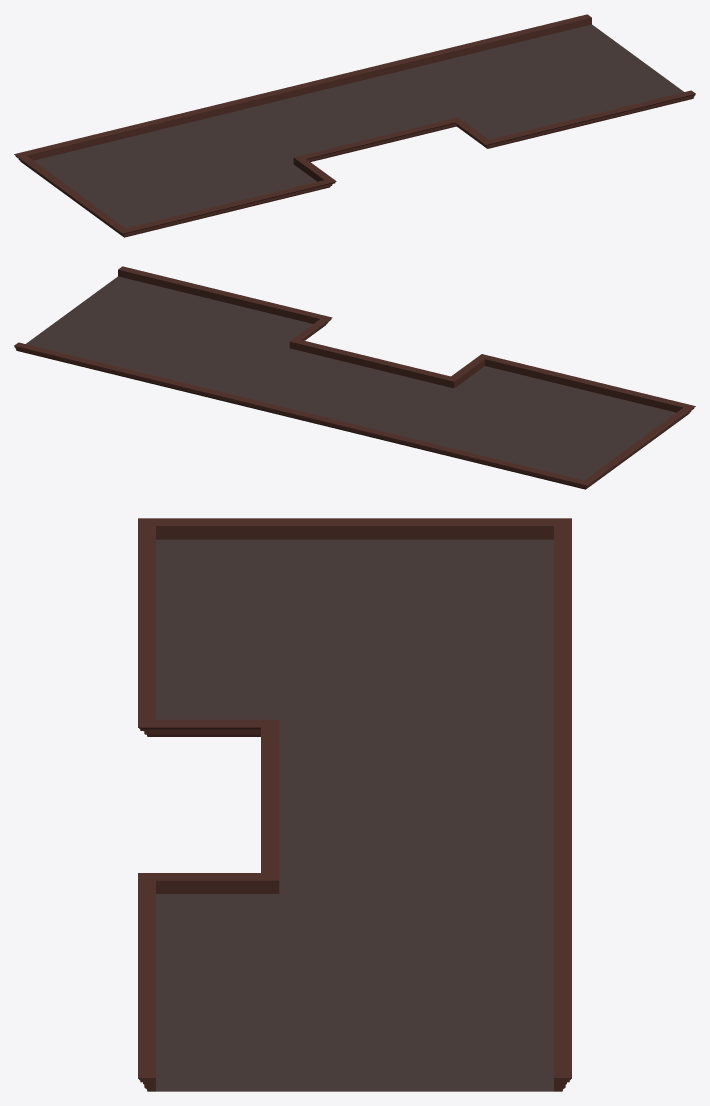
Rendered from BuildingSmall3_4.fbx.
3 views of the same model, one above another, from view 1: azimuth 30°, elevation 25°; view 2: azimuth 150°, elevation 25°; view 3: azimuth 270°, elevation 25° (orthographic). The views are drawn at different scales.
Parts seen in each view (by area): view 1: BuildingSmall3_4; view 2: BuildingSmall3_4; view 3: BuildingSmall3_4.
Boxes of the visible parts, x1,y1,x2,y2 form: BuildingSmall3_4: (14,14,695,237); BuildingSmall3_4: (14,266,695,489); BuildingSmall3_4: (138,518,571,1091).
Bounding box in the file's own units: 6125 × 69.12 × 2008.
